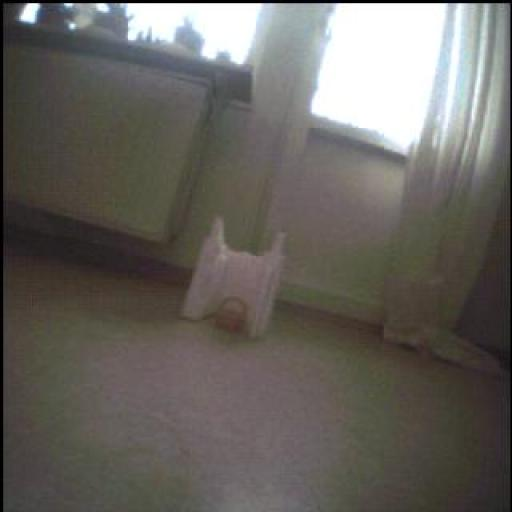Basket: (215, 299, 249, 334)
